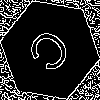C: (25, 25, 81, 83)
